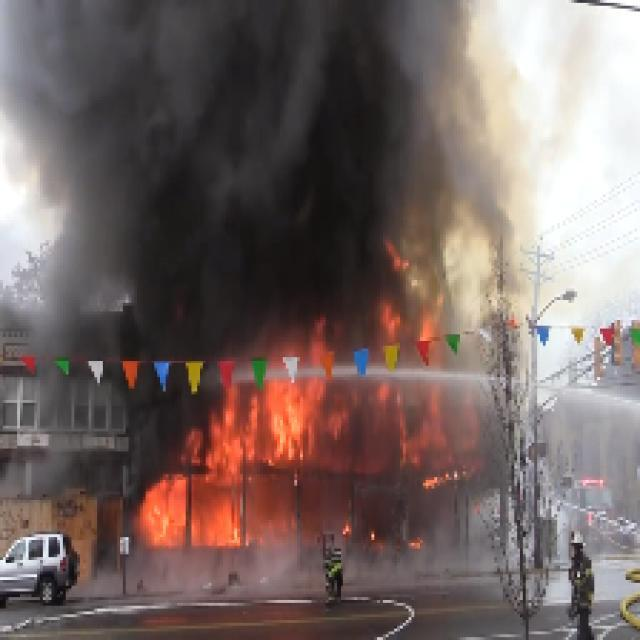Fire: (142, 476, 244, 545), (221, 392, 291, 476)
Smoke: (93, 15, 459, 341)
